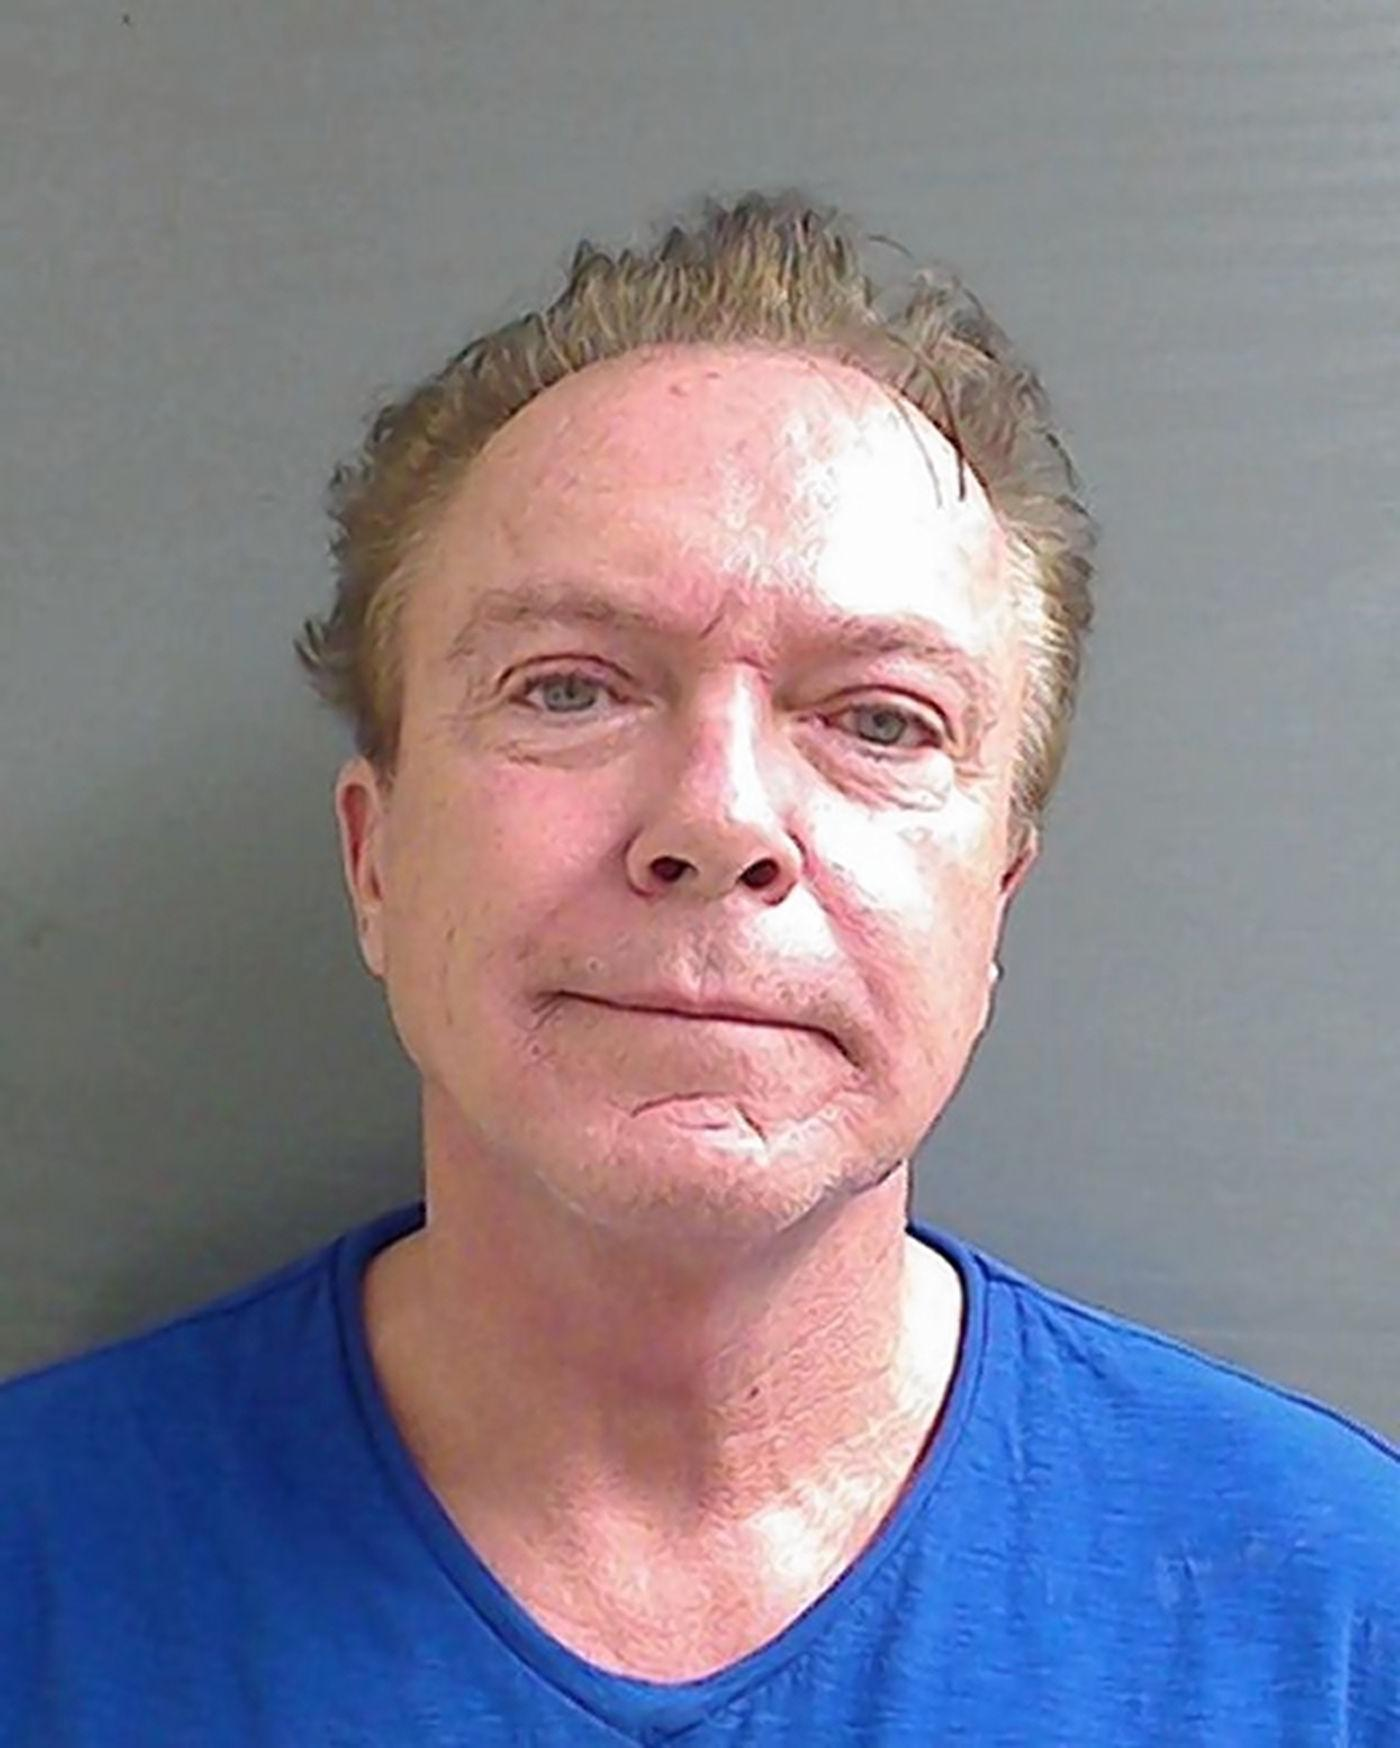Drunk: (479, 404, 1006, 1204)
